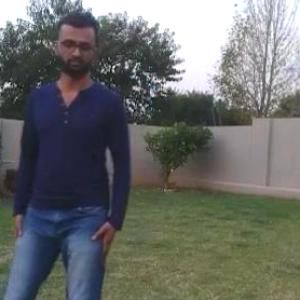follow: (22, 11, 124, 299)
